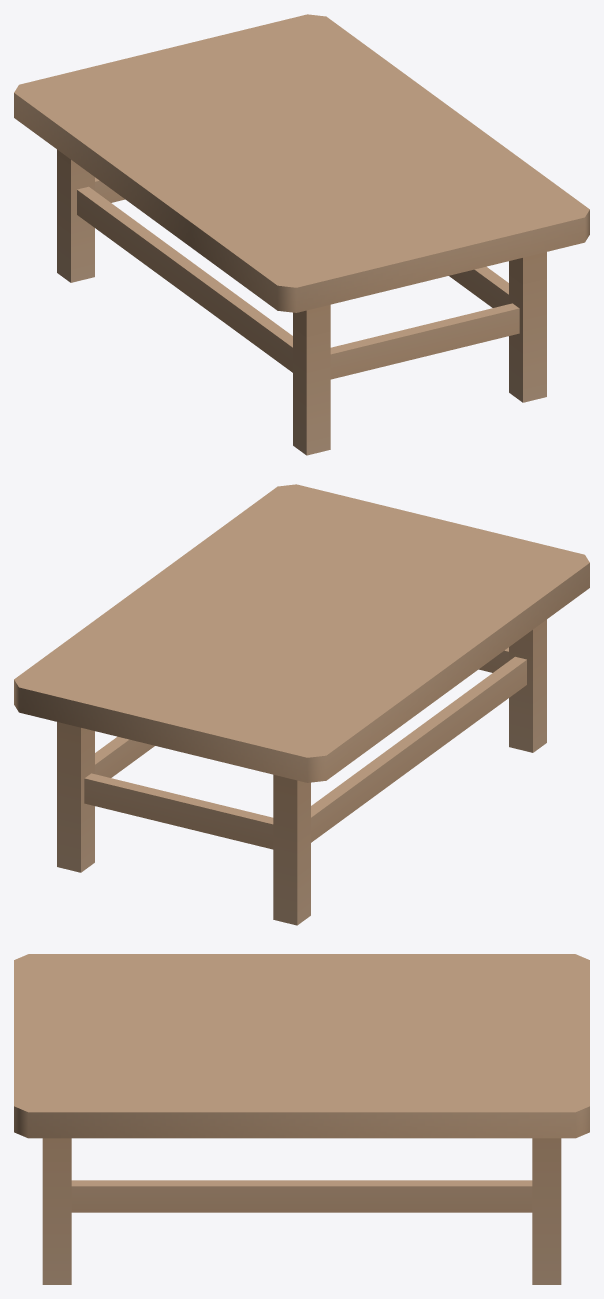
The model's file is market_stall_a.obj.
3 views of the same model, one above another, from view 1: azimuth 30°, elevation 25°; view 2: azimuth 150°, elevation 25°; view 3: azimuth 270°, elevation 25° (orthographic). The views are drawn at different scales.
Parts seen in each view (by area): view 1: stall; view 2: stall; view 3: stall.
Part boxes in pixels (box(x1,y1,x2,y2)): stall: box(14, 14, 589, 455); stall: box(14, 484, 589, 925); stall: box(14, 954, 589, 1284).
Size of the model in its own units: 4.6 by 2.58 by 7.07.
1 material, 1 textured.
